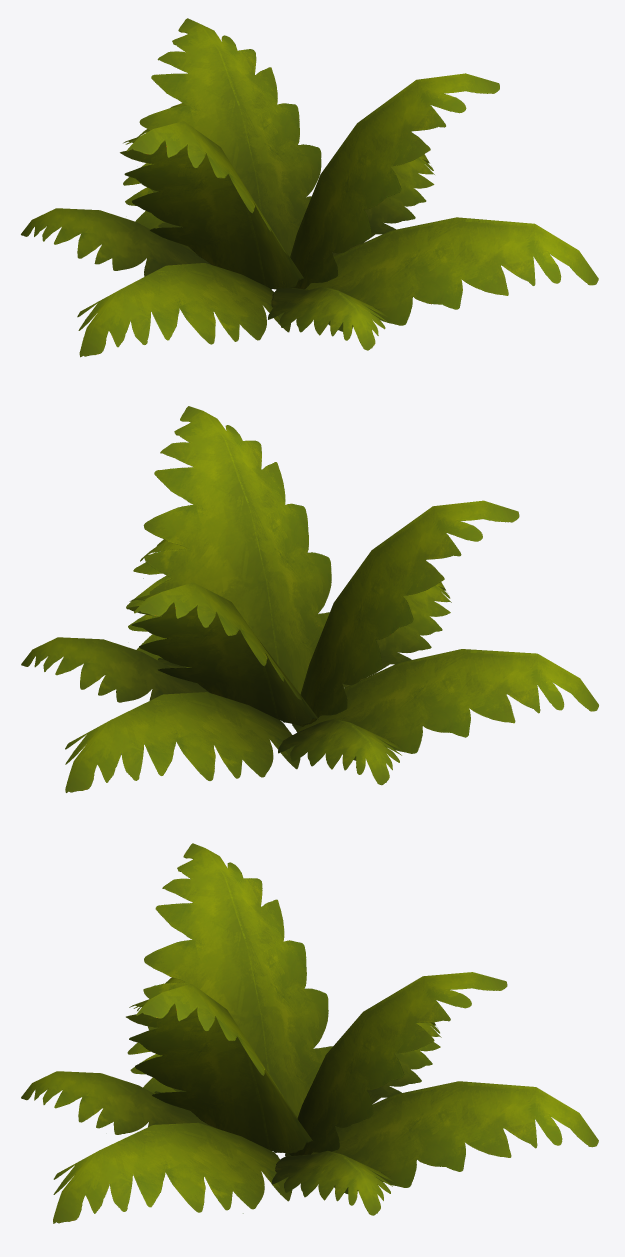
The model's file is Fern_2.gltf.
3 renders of one model, top to bottom at view 1: azimuth 30°, elevation 25°; view 2: azimuth 150°, elevation 25°; view 3: azimuth 270°, elevation 25°, orthographic. The views are drawn at different scales.
Visible parts, largest first — view 1: Fern_2; view 2: Fern_2; view 3: Fern_2.
Part boxes in pixels (bbox=[...]): Fern_2: bbox=[21, 18, 598, 357]; Fern_2: bbox=[21, 406, 598, 792]; Fern_2: bbox=[21, 843, 598, 1223].
Bounding box in the file's own units: 1.68 × 0.7787 × 1.79.
Materials: 1 (1 with a texture image).
